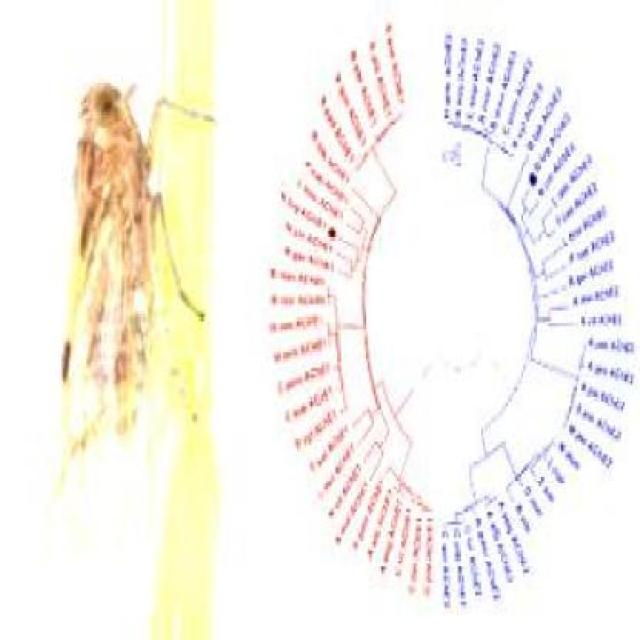brown-planthopper: (54, 75, 168, 600)
